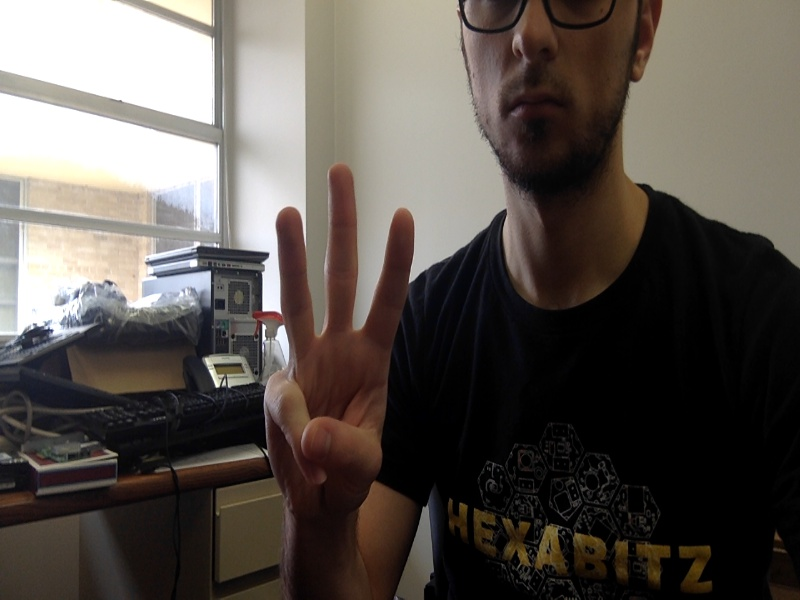3-hand: (266, 164, 415, 514)
